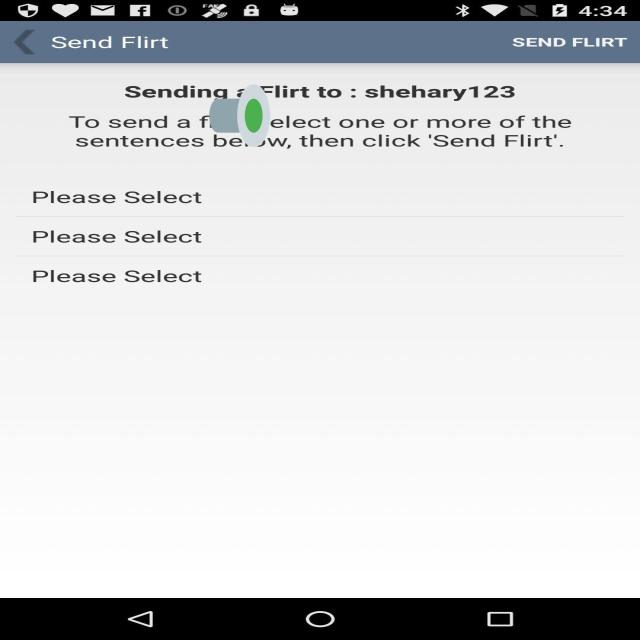social proof: (209, 57, 270, 174)
